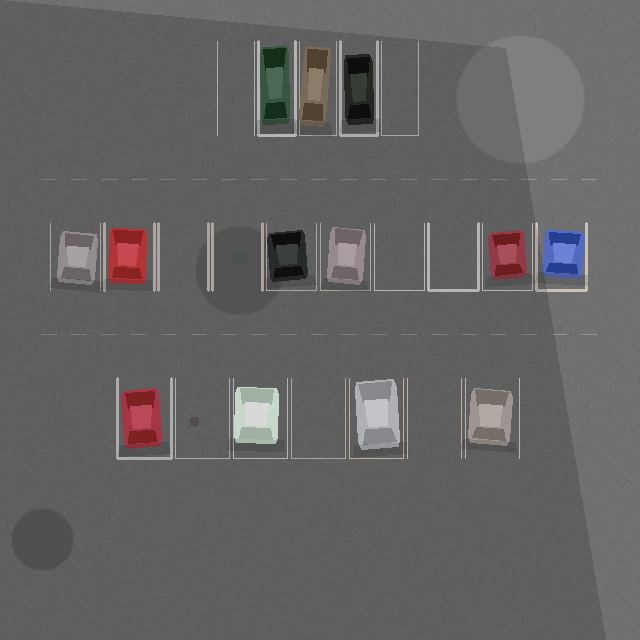space-empty: (175, 378, 229, 458), (291, 378, 345, 458), (407, 378, 461, 458), (217, 41, 254, 135), (381, 41, 418, 135), (158, 223, 208, 290), (212, 223, 262, 290), (374, 223, 424, 290), (428, 223, 478, 290)
space-occupied: (117, 378, 171, 458), (233, 378, 287, 458), (349, 378, 403, 458), (465, 378, 519, 458), (258, 41, 295, 135), (299, 41, 336, 135), (340, 41, 377, 135), (50, 223, 100, 290), (104, 223, 154, 290), (266, 223, 316, 290), (320, 223, 370, 290), (482, 223, 532, 290), (536, 223, 586, 290)
